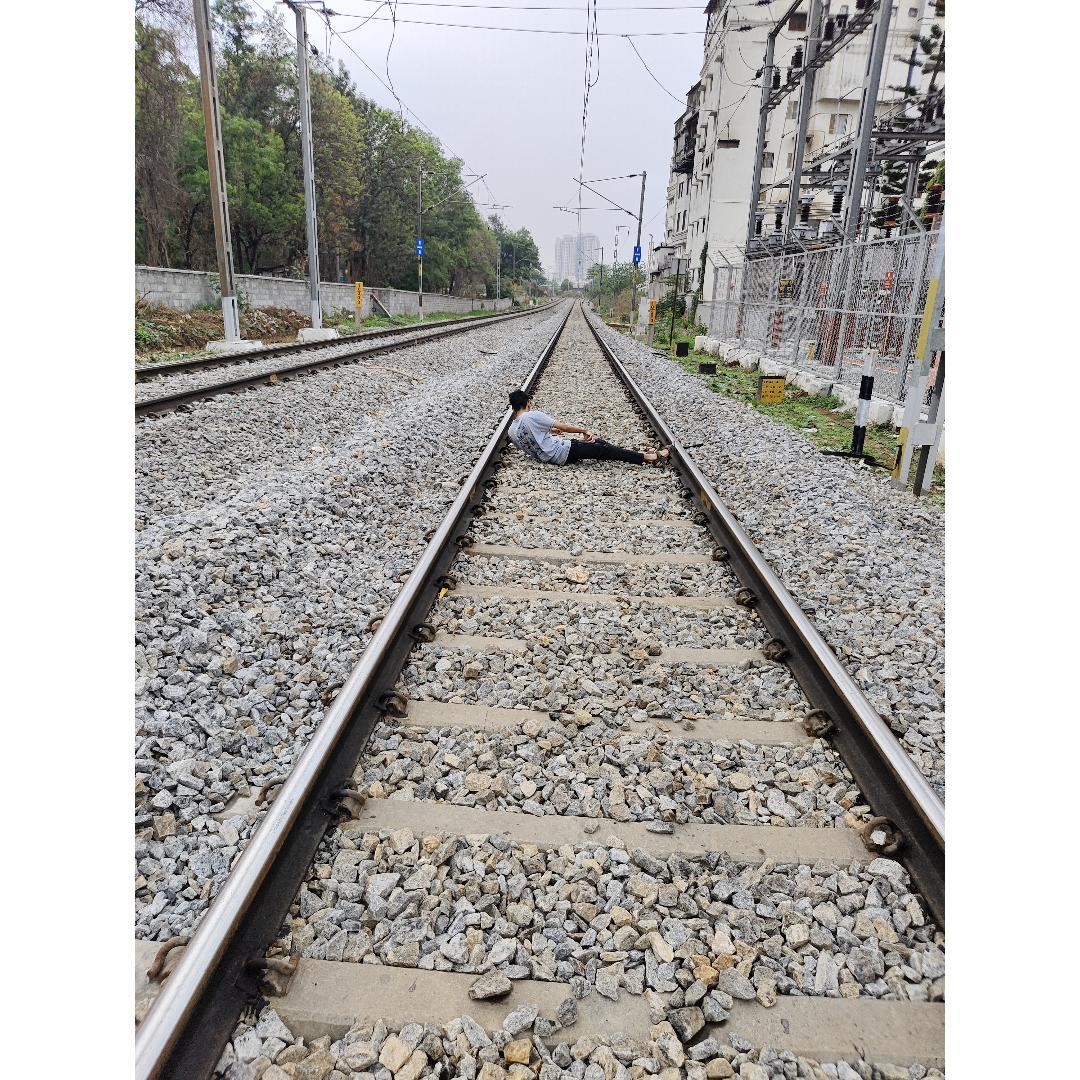sleeping: (505, 388, 671, 468)
track: (135, 279, 945, 1080)
